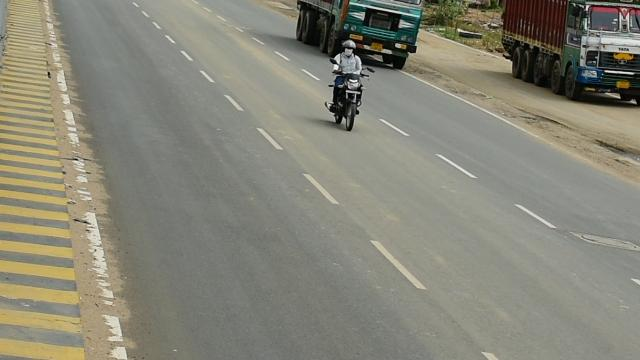Without Helmet: (339, 38, 359, 56)
